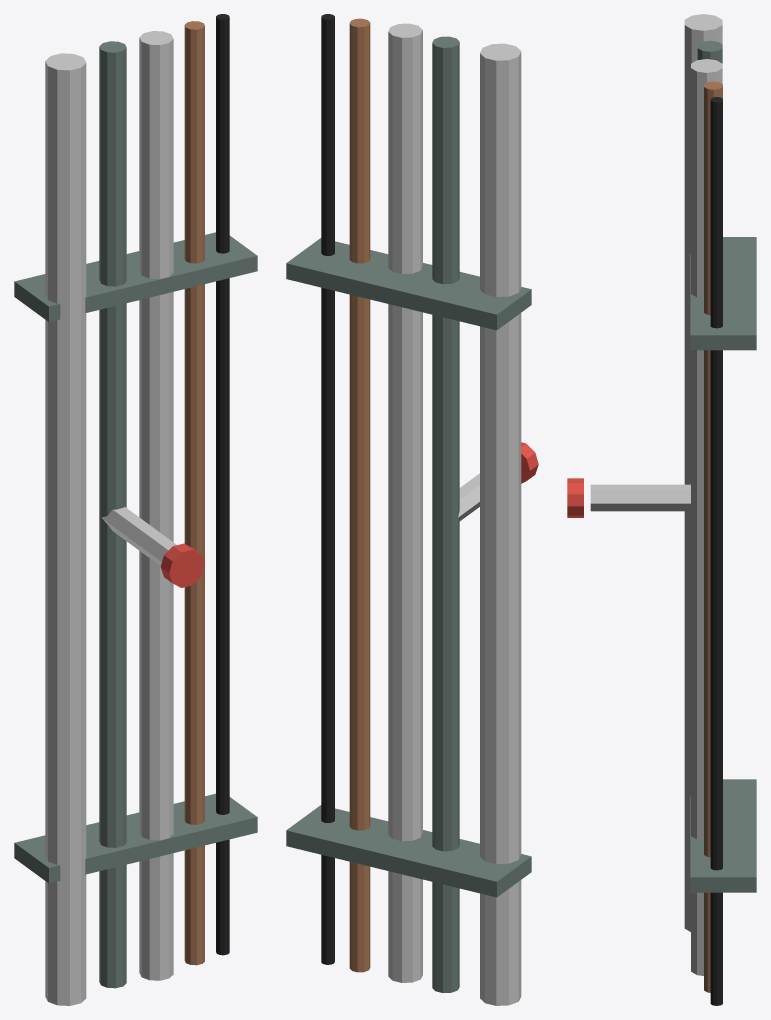
The model's file is pipe_bundle.glb.
The picture shows the model from 3 angles, left to right: view 1: azimuth 30°, elevation 25°; view 2: azimuth 150°, elevation 25°; view 3: azimuth 270°, elevation 25°; orthographic projection. The views are drawn at different scales.
Visible parts, largest first — view 1: pipe_bundle; view 2: pipe_bundle; view 3: pipe_bundle.
Part boxes in pixels (x1,y1,x2,y2): pipe_bundle: [14, 14, 257, 1005]; pipe_bundle: [286, 14, 538, 1005]; pipe_bundle: [567, 14, 756, 1005].
Size of the model in its own units: 0.7 by 3 by 0.57.
